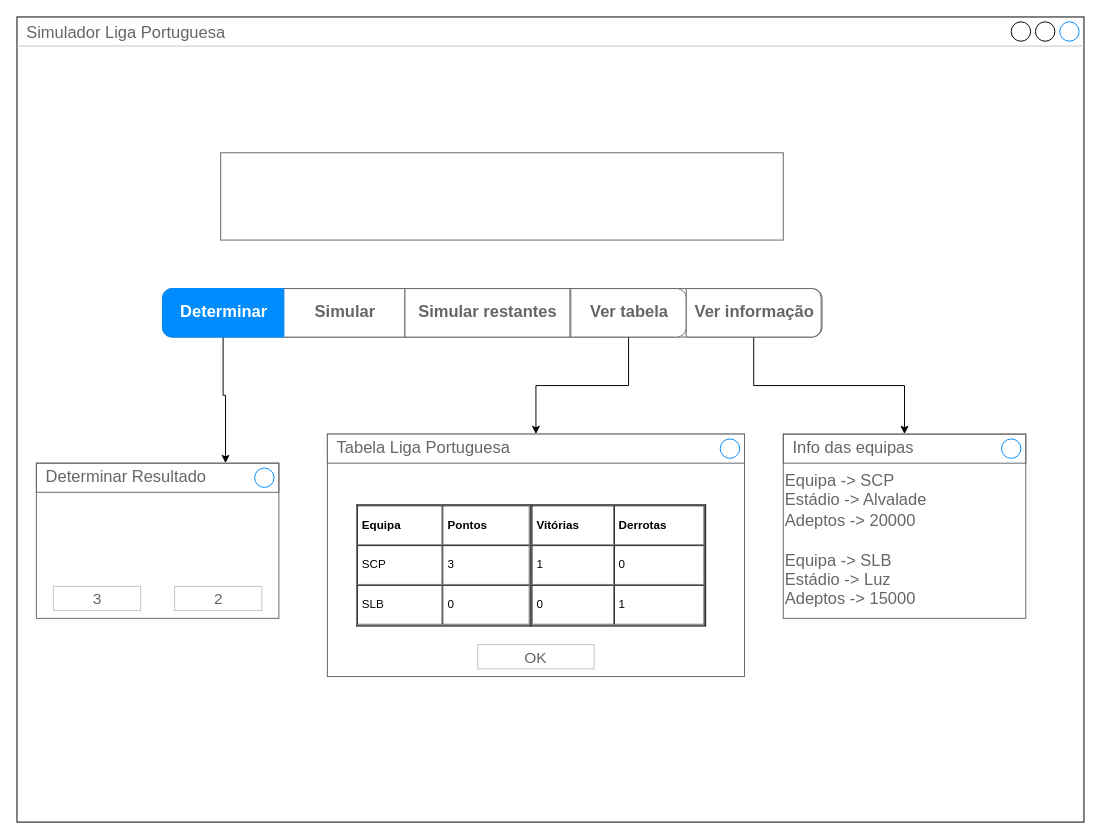
Some shapes in this 1101 by 839 pixel diagram are drawn without their labels. The shapes that lost their labels are listed below. From the top down, each one's centre as x and y in pixels, then its label:
At (x=501, y=196): "Próximo jogo: SCP vs SLB no estádio Alvalade com 35000 espectadores".
At (x=157, y=540): "Digite os golos marcados e os golos sofridos pela equipa da casa".
